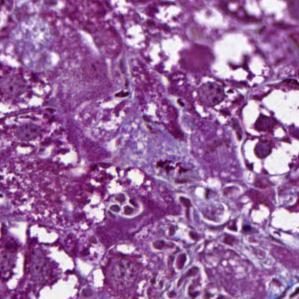inflammation: (91, 164, 149, 219)
